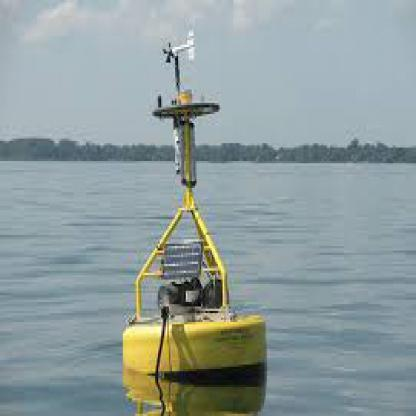buoy: (112, 25, 273, 389)
